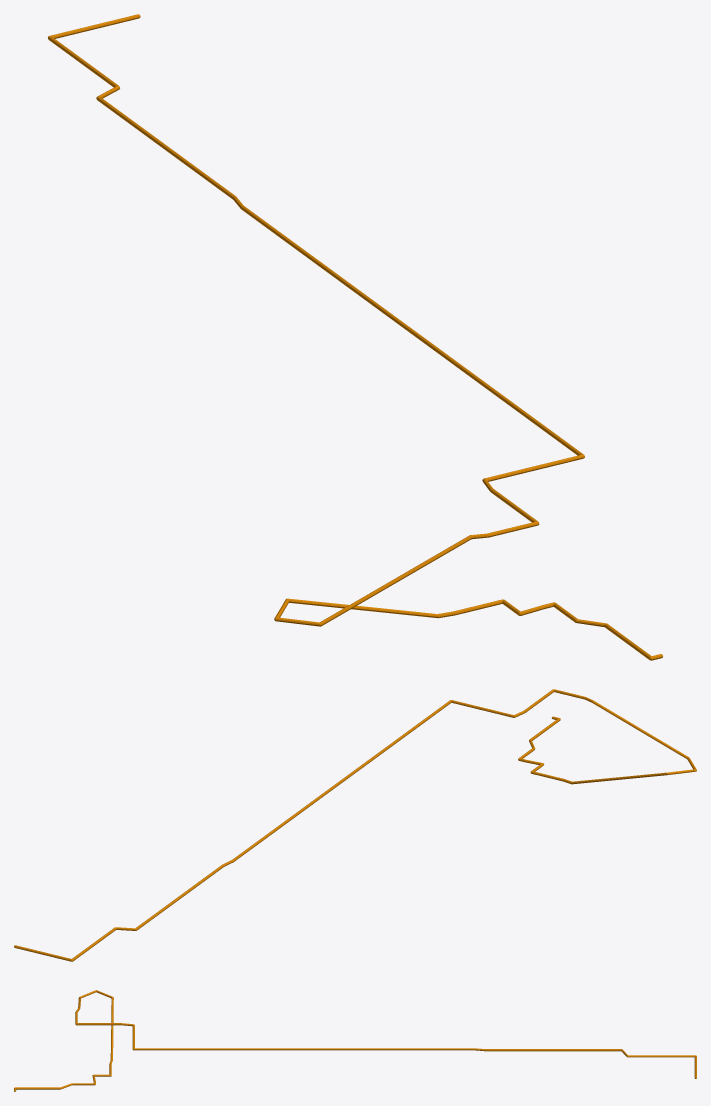
3 renders of one model, top to bottom at view 1: azimuth 30°, elevation 25°; view 2: azimuth 150°, elevation 25°; view 3: azimuth 270°, elevation 25°, orthographic. The views are drawn at different scales.
Size of the model in its own units: 2368 by 520 by 6018.
